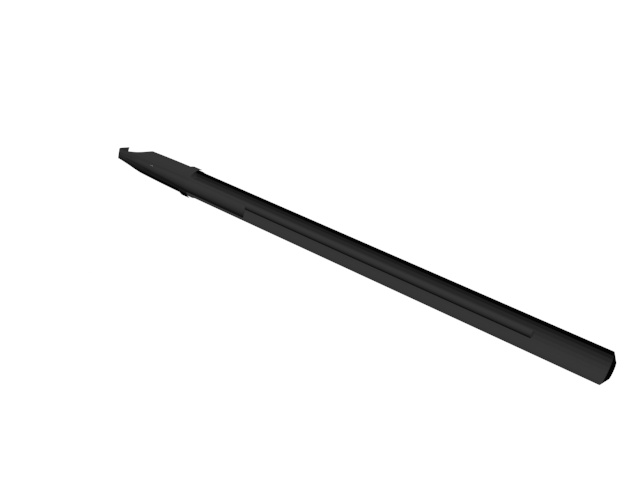pen: (113, 145, 623, 392)
